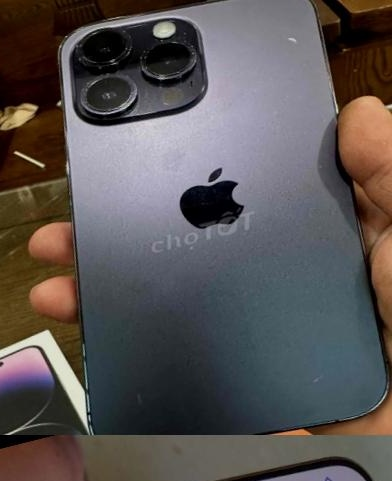scratch: (59, 3, 213, 133), (304, 362, 337, 386), (283, 29, 310, 54), (132, 385, 150, 409)
